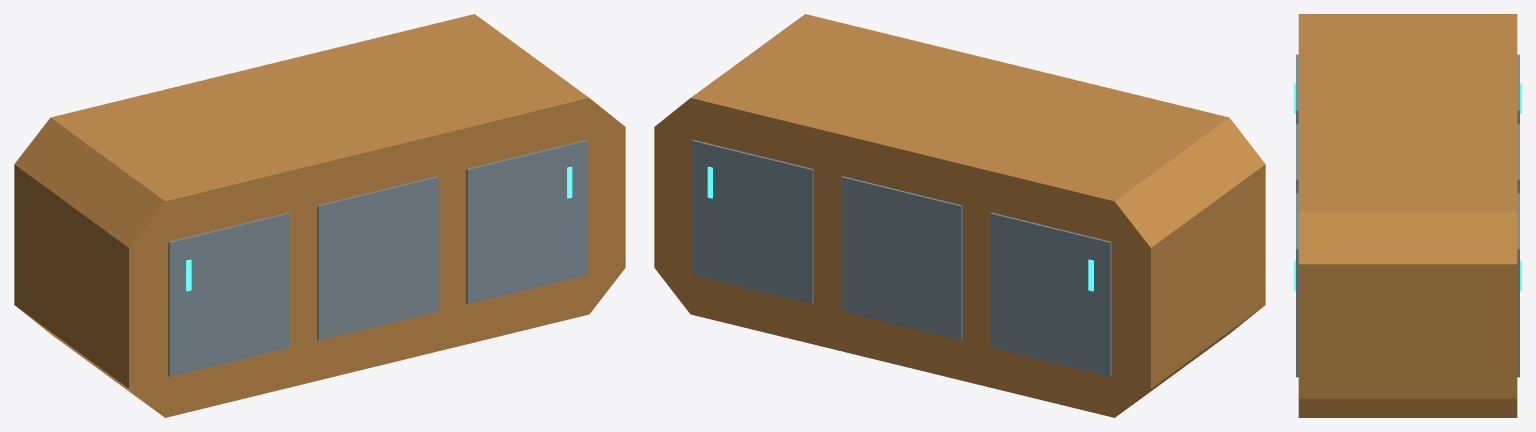
Rendered from Utility_CargoContainer_6m_Shell.glb.
3 views of the same model, side by side, from view 1: azimuth 30°, elevation 25°; view 2: azimuth 150°, elevation 25°; view 3: azimuth 270°, elevation 25° (orthographic). The views are drawn at different scales.
Parts seen in each view (by area): view 1: Utility_CargoContainer_6m_Shell; view 2: Utility_CargoContainer_6m_Shell; view 3: Utility_CargoContainer_6m_Shell.
Boxes of the visible parts, x1=… form: Utility_CargoContainer_6m_Shell: x1=14, y1=14, x2=625, y2=417; Utility_CargoContainer_6m_Shell: x1=654, y1=14, x2=1265, y2=417; Utility_CargoContainer_6m_Shell: x1=1294, y1=14, x2=1521, y2=417.
Bounding box in the file's own units: 6 × 2.5 × 2.5.
